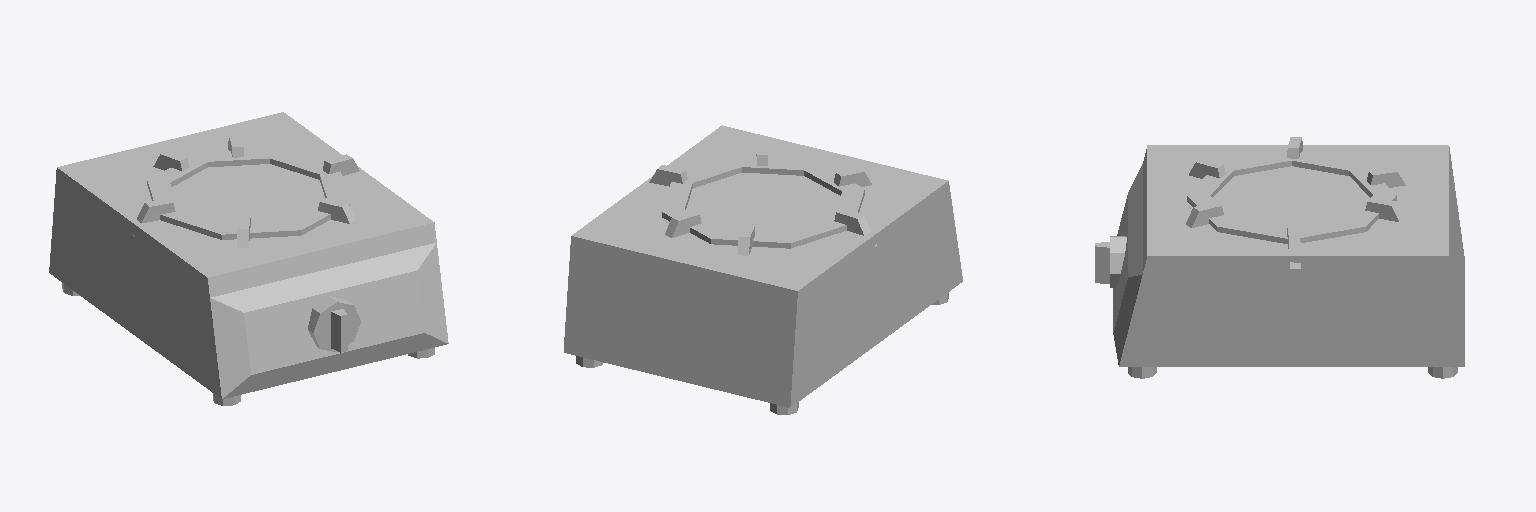
File: appliance_stove.obj
3 views of the same model, side by side, from view 1: azimuth 30°, elevation 25°; view 2: azimuth 150°, elevation 25°; view 3: azimuth 270°, elevation 25° (orthographic).
Visible parts, largest first — view 1: appliance_stove_Cube.261, appliance_stove_knob_Cube.419; view 2: appliance_stove_Cube.261; view 3: appliance_stove_Cube.261, appliance_stove_knob_Cube.419.
Boxes of the visible parts, <box> form: appliance_stove_Cube.261: <box>49,112,448,405</box>; appliance_stove_knob_Cube.419: <box>308,296,360,352</box>; appliance_stove_Cube.261: <box>564,125,962,414</box>; appliance_stove_Cube.261: <box>1113,137,1464,378</box>; appliance_stove_knob_Cube.419: <box>1095,236,1126,287</box>.
Size of the model in its own units: 6.68 by 3.86 by 9.26.